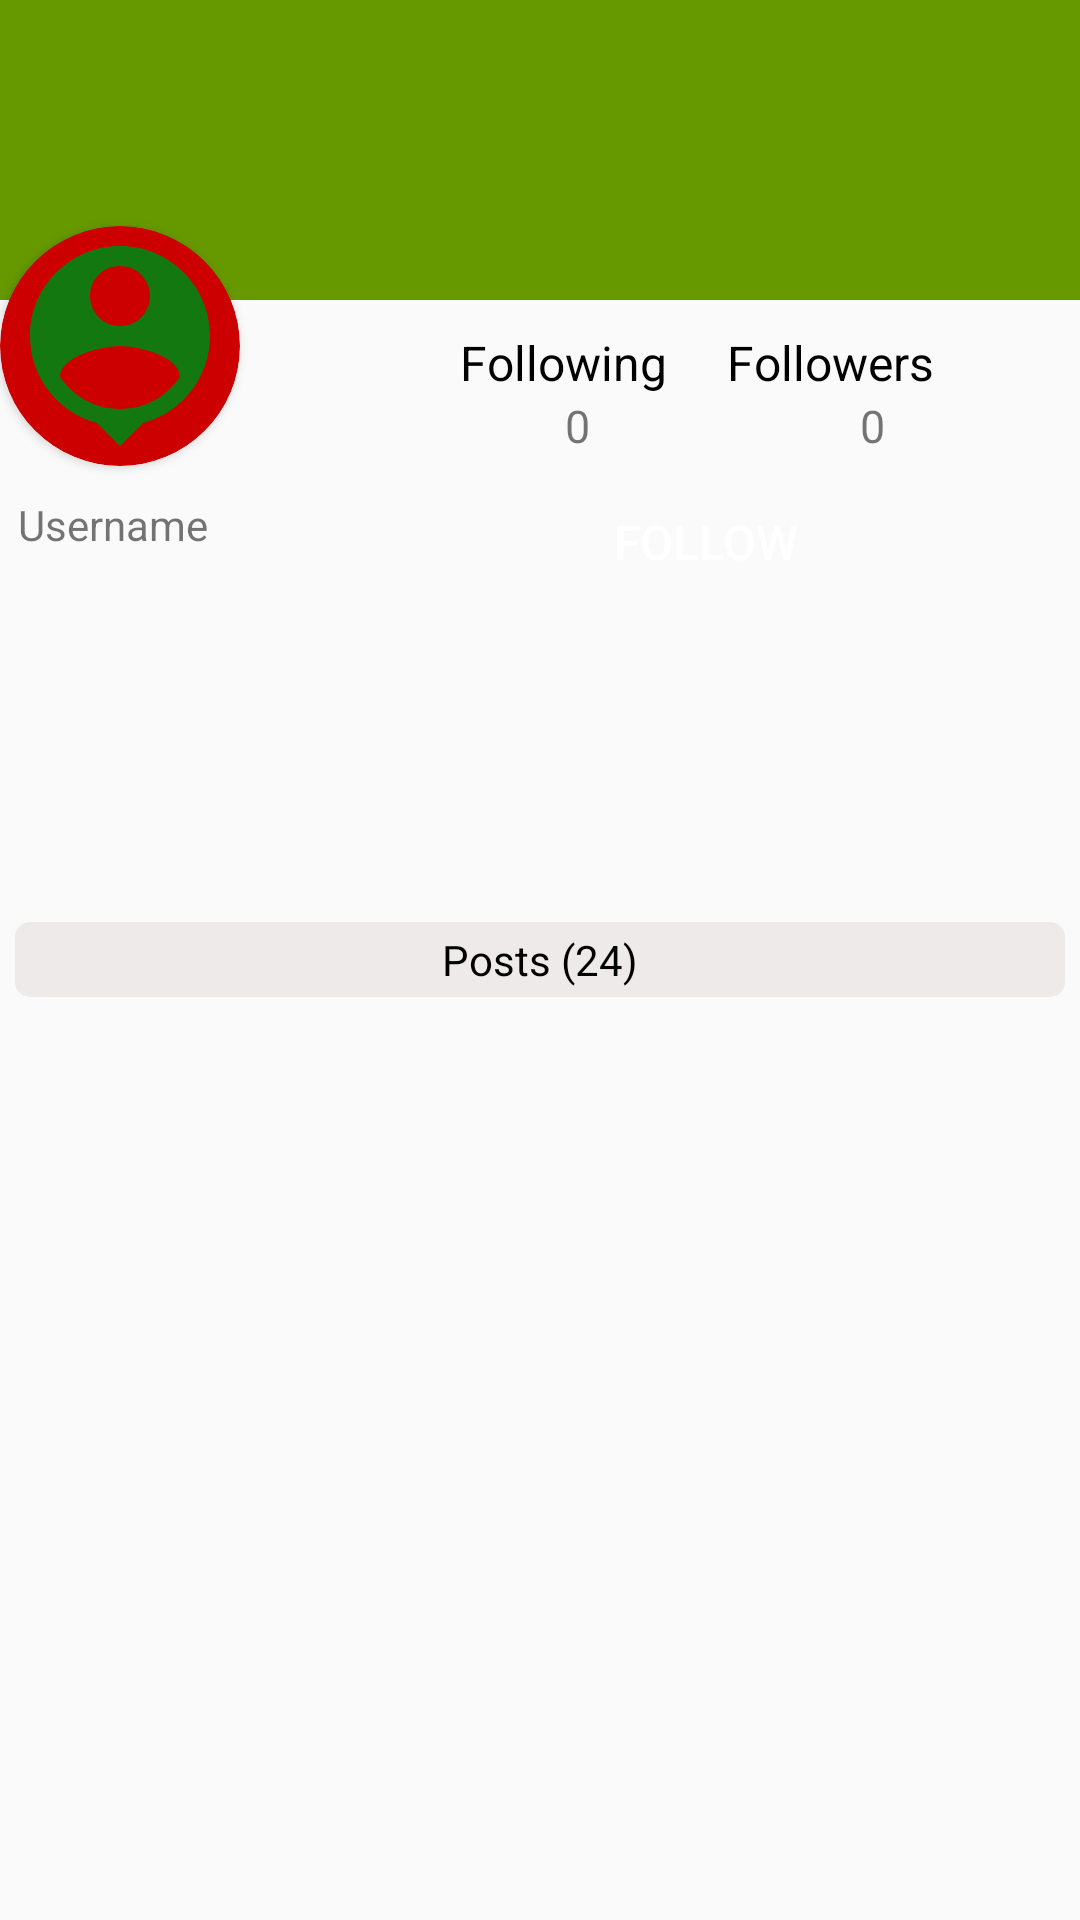

Where to tap for icons on this 1080px×1920px app screen, as (x,y):
profile: (120,346)
